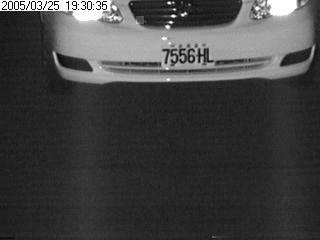plate: (158, 42, 216, 71)
